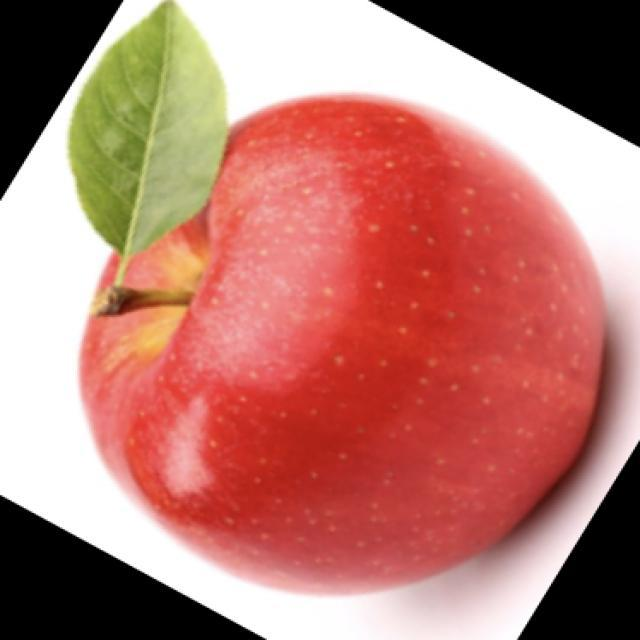Fresh Apple: (70, 127, 603, 593)
